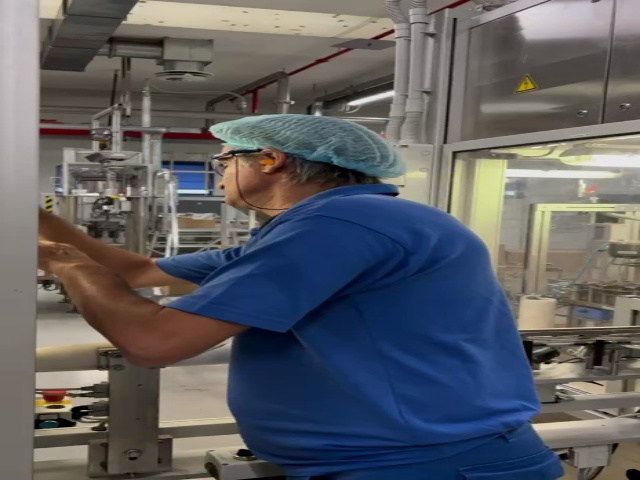Earplug: (253, 148, 284, 177)
Hairnet: (211, 112, 409, 179)
No_Helmet: (211, 112, 406, 173)
No_Vest: (235, 193, 499, 466)
Person: (207, 109, 557, 480)
Safety_Goggles: (211, 146, 259, 169)
